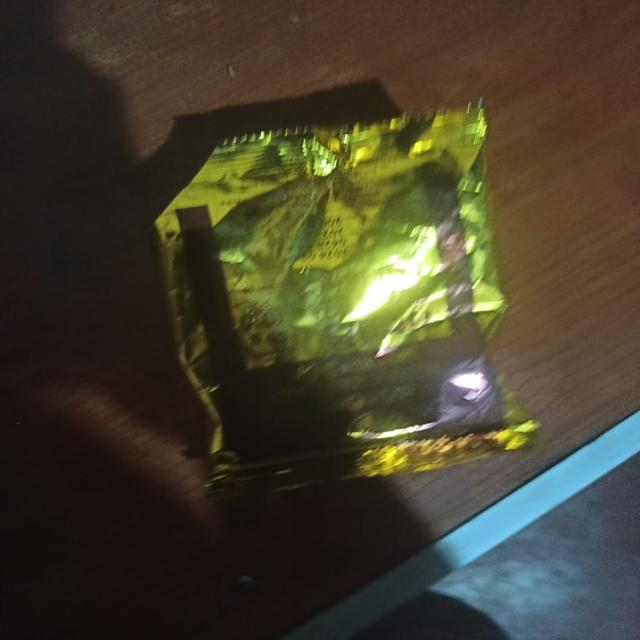Harischandra Coffee: (138, 89, 520, 503)
